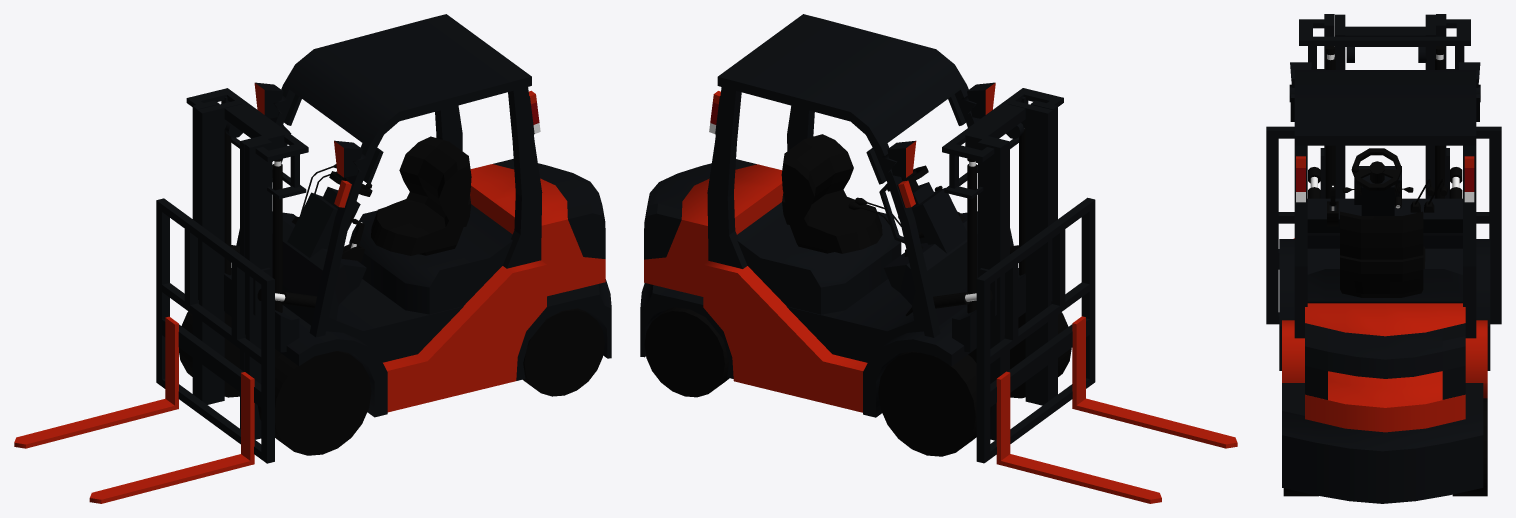
The model's file is forklift02.FBX.
3 renders of one model, left to right at view 1: azimuth 30°, elevation 25°; view 2: azimuth 150°, elevation 25°; view 3: azimuth 270°, elevation 25°, orthographic. The views are drawn at different scales.
Visible parts, largest first — view 1: Box017, Box007, Box001, Box021, Box022, Box023, Cone001, Box140, Box018, Box004, Cone003, Box003 (+14 smaller); view 2: Box017, Box001, Box007, Box022, Box021, Cone002, Box023, Box142, Box018, Cone004, Box004, Box003 (+14 smaller); view 3: Box017, Box019, Box018, Box020, Box023, Box001, Box021, Box022, Box016, Box007, Box009, Box120 (+12 smaller).
Boxes of the visible parts, box(x1,y1,x2,y2) form: Box017: box(236, 14, 542, 337); Box007: box(383, 260, 546, 412); Box001: box(156, 198, 274, 463); Box021: box(272, 211, 463, 362); Box022: box(349, 204, 512, 314); Box023: box(371, 136, 471, 255); Cone001: box(257, 351, 371, 455); Box140: box(197, 104, 224, 404); Box018: box(470, 164, 605, 296); Box004: box(192, 100, 272, 439); Cone003: box(523, 308, 604, 396); Box003: box(14, 316, 178, 448); Box017: box(707, 14, 1018, 337); Box001: box(976, 197, 1095, 463); Box007: box(703, 261, 867, 412); Box022: box(737, 202, 901, 314); Box021: box(786, 211, 977, 362); Cone002: box(878, 351, 991, 456); Box023: box(781, 134, 882, 253); Box142: box(1025, 104, 1052, 405); Box018: box(644, 164, 783, 296); Cone004: box(644, 307, 729, 397); Box004: box(978, 100, 1057, 440); Box003: box(996, 371, 1161, 503); Box017: box(1294, 70, 1476, 338); Box019: box(1282, 383, 1483, 503); Box018: box(1305, 303, 1465, 432); Box020: box(1305, 323, 1465, 399); Box023: box(1340, 211, 1423, 297); Box001: box(1266, 126, 1501, 324); Box021: box(1307, 198, 1462, 274); Box022: box(1307, 269, 1462, 303); Box016: box(1279, 239, 1490, 370); Box007: box(1282, 320, 1487, 398); Box009: box(1299, 19, 1470, 45); Box120: box(1361, 167, 1394, 215).
Size of the model in its own units: 146 by 82.67 by 51.62.
